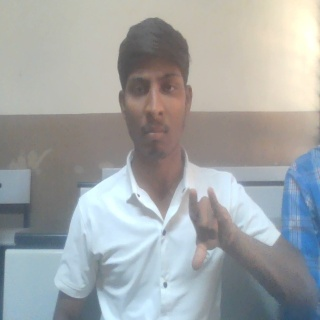Face: (115, 16, 194, 168)
I Love You: (183, 183, 241, 274)
